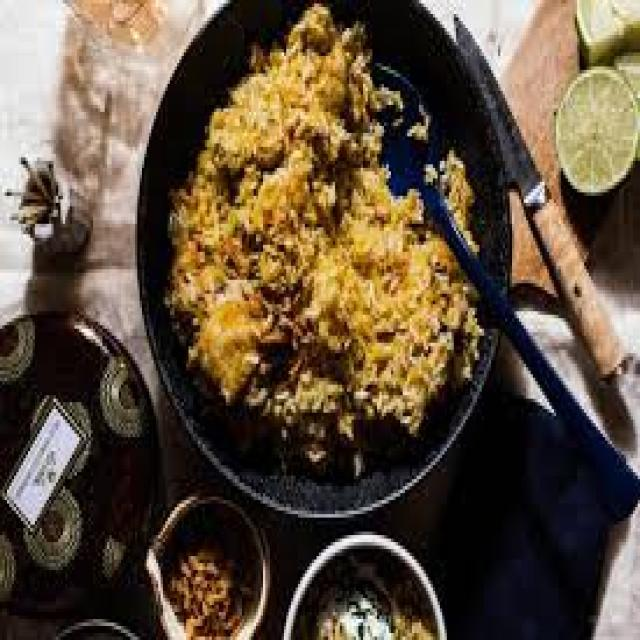chicken biryani: (192, 45, 448, 468)
